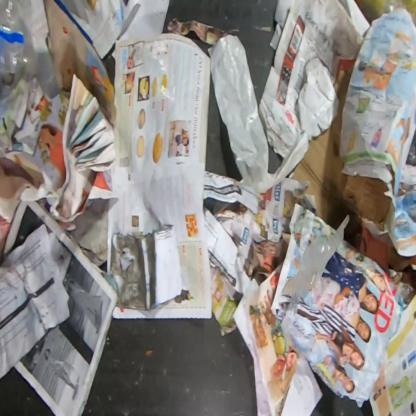cardboard: (292, 66, 392, 225)
soft_plastic: (207, 34, 340, 194), (280, 214, 350, 300), (0, 0, 32, 75)
